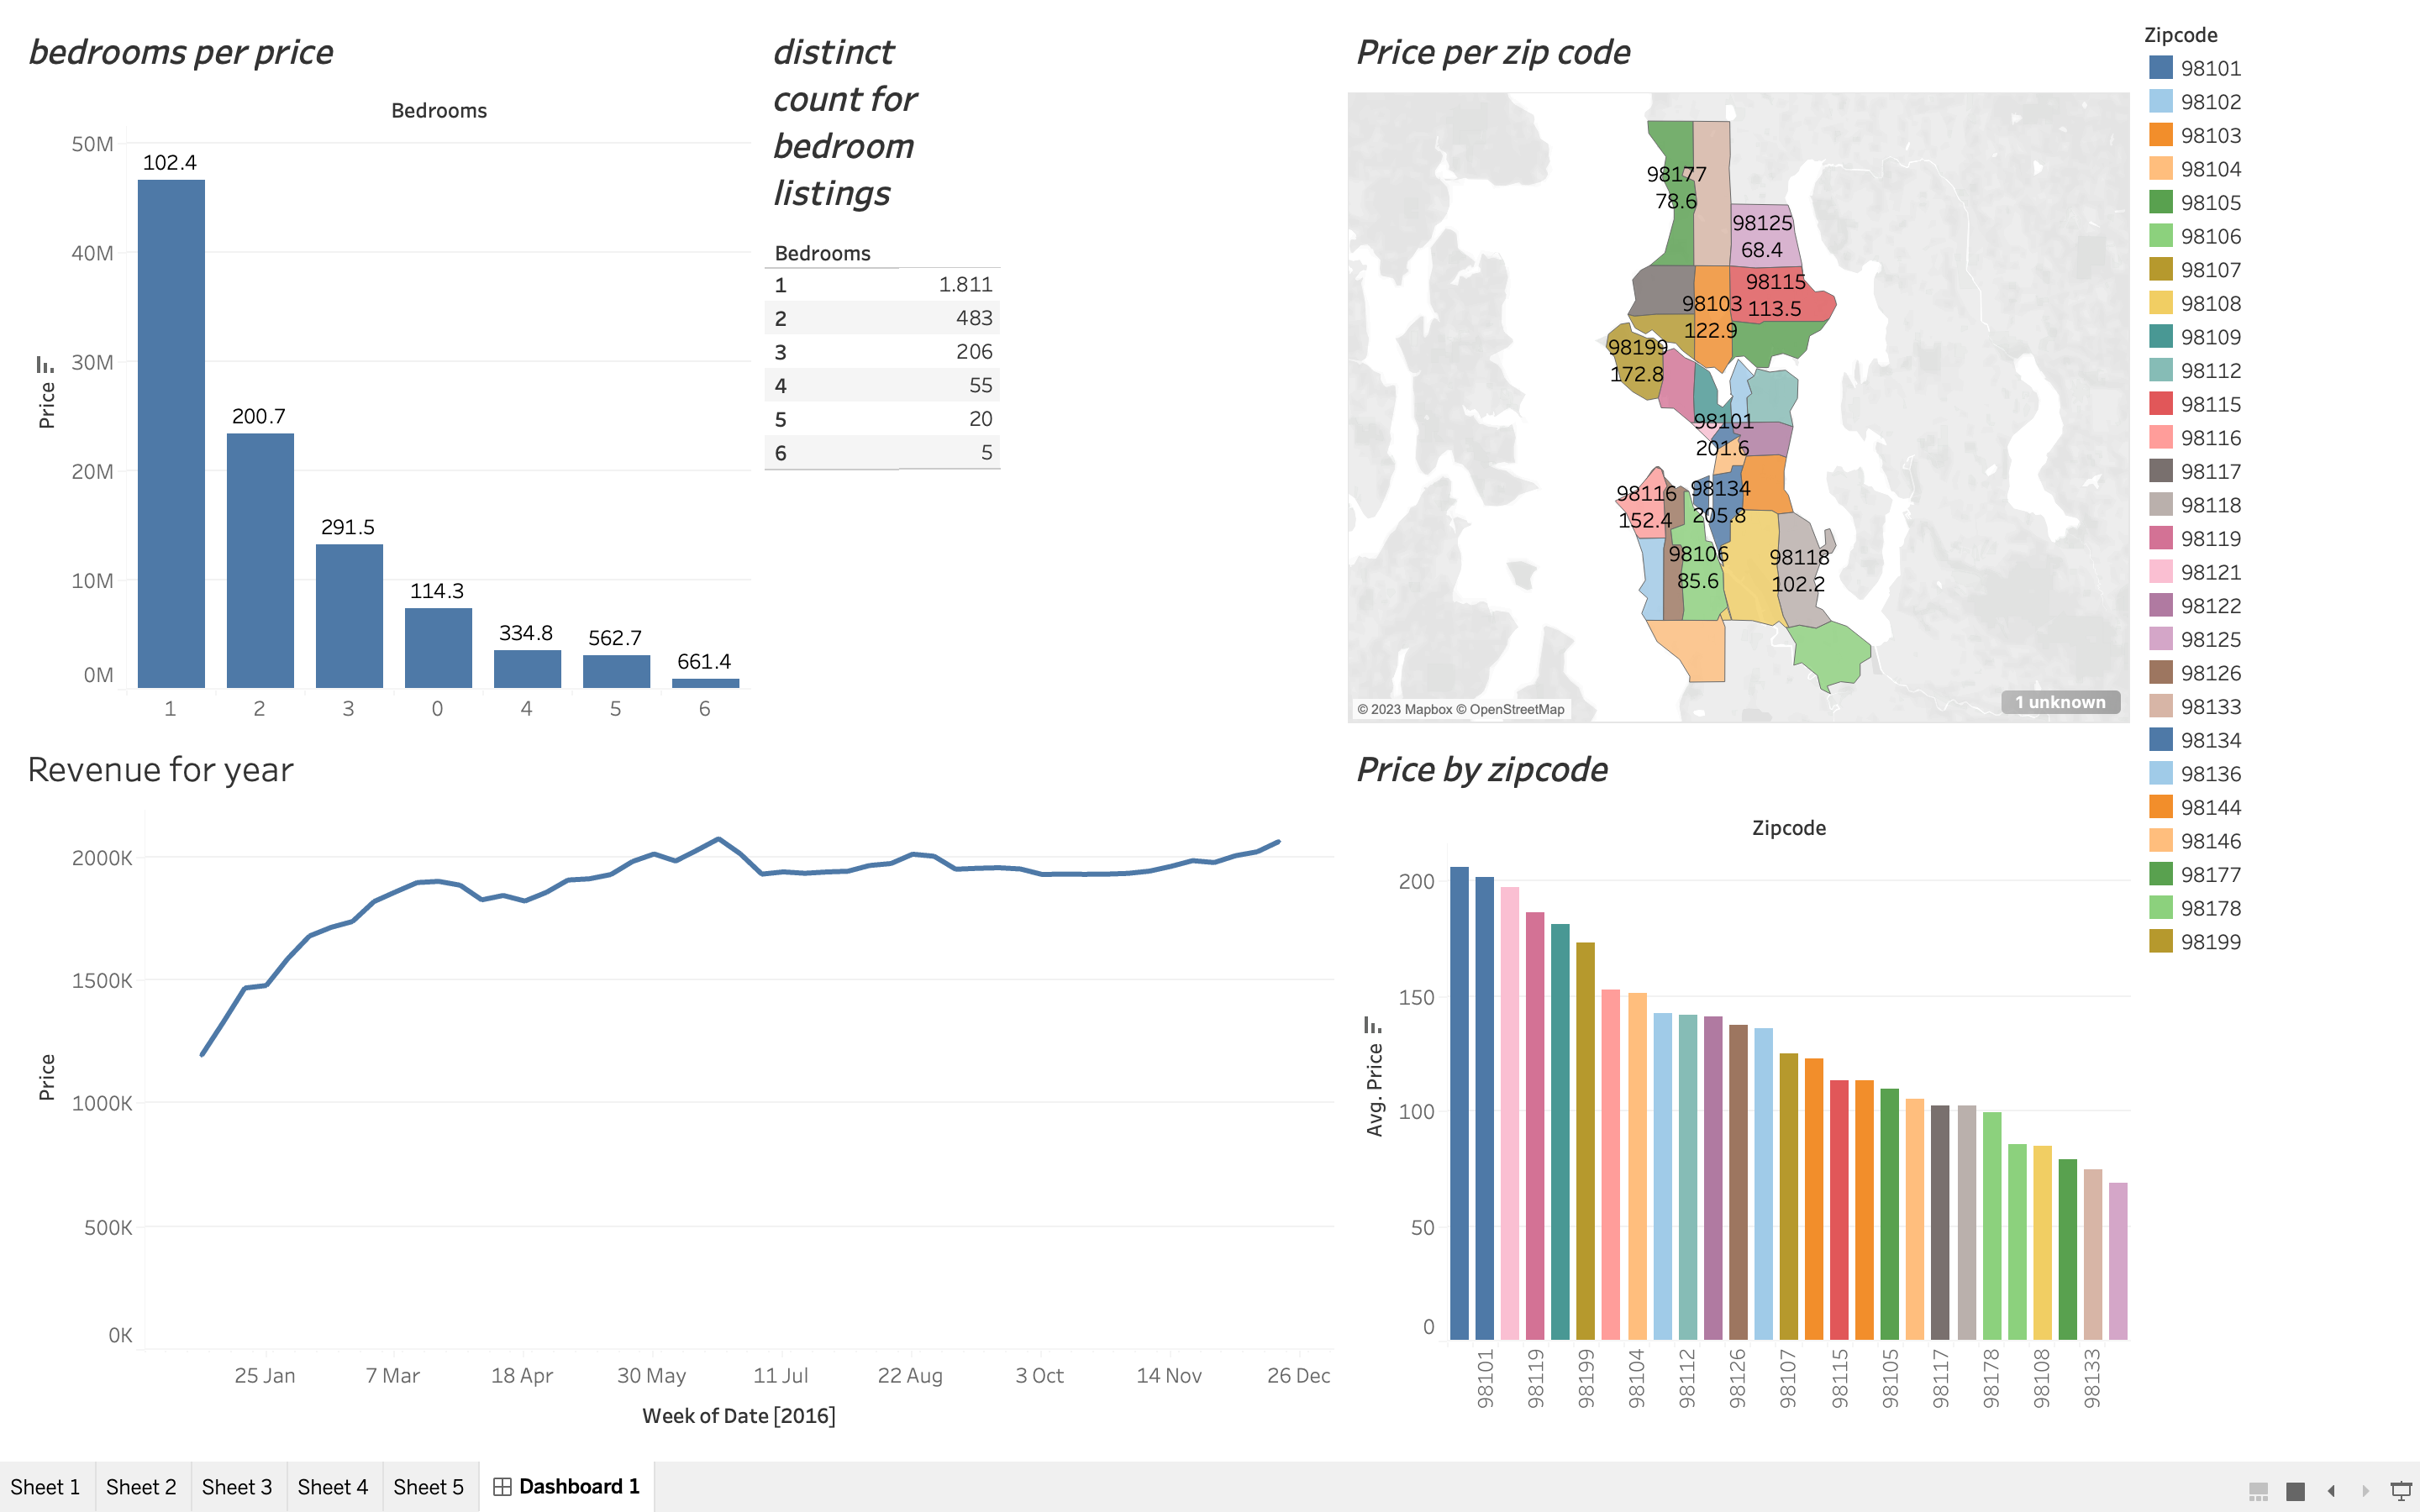

This screenshot's page, from the dashboard's own definition file:
{"tool":"tableau","page":{"name":"Dashboard 1","canvas":[1000,1000],"units":"permille","ordinal":0},"visuals":[{"type":"image","param":"Image/Presentation1.jpg","box":[6.7,11.8,986.6,976.5]},{"type":"image","param":"Image/Big-KING.png","box":[304.5,55.5,38.6,46.7]},{"type":"image","param":"Image/Big-KING.png","box":[618.3,56.9,39.4,49.6]},{"type":"text","box":[341.4,58.4,287.8,46.7]},{"type":"image","param":"Image/profit-growth.png","box":[281,148.9,38.6,45.3]},{"type":"image","param":"Image/2248720.png","box":[463.9,153.3,27.7,45.3]},{"type":"image","param":"Image/delivery-man.png","box":[630,157.7,27.7,42.3]},{"type":"image","param":"Image/order-delivery.png","box":[806.2,159.1,29.4,45.3]},{"type":"worksheet","title":"Sheet 1","mark":"Automatic","box":[255.9,200,143.5,127]},{"type":"worksheet","title":"Sheet 4","mark":"Automatic","box":[789.4,203.5,130,124.1]},{"type":"worksheet","title":"Sheet 2","mark":"Automatic","box":[441,204.9,145.7,124.1]},{"type":"worksheet","title":"Sheet 3","mark":"Automatic","box":[608.2,206.3,105.7,124.1]},{"type":"legend","title":"Sheet 7","param":"[federated.0biavtb1x3sd1t1955vu71ttgwik].[none:item_name:nk]","box":[879.2,338.7,100.7,156.2]},{"type":"worksheet","title":"Sheet 6","mark":"Automatic","rows":["total_revenue€","total_revenue€"],"cols":["item_name"],"box":[237.4,343.1,355.7,324.1]},{"type":"legend","title":"Sheet 6","param":"[federated.19e4rfg1y8g0gx1go0oug1og9nst].[none:item_name:nk]","box":[461.4,343.1,130.9,151.8]},{"type":"worksheet","title":"Sheet 7","mark":"Bar","rows":["total_revenue€","total_revenue€"],"cols":["item_name"],"box":[603.2,343.1,281,322.6]},{"type":"worksheet","title":"Sheet 5","mark":"Area","rows":["total_orders","total_orders"],"cols":["Order Hours (bin)"],"box":[237.4,681.8,222.3,280.3]}]}

Visuals, with their boxes on the dashboard's canvas, which has no fixed pixel size, in thousandths of its width and height (x1, y1, x2, y2). These are canvas units, not pixel positions in the 2420x1512 screenshot, which may show the page scaled, cropped or inside an application window:
image: [7,12,993,988]
image: [304,56,343,102]
image: [618,57,658,106]
text: [341,58,629,105]
image: [281,149,320,194]
image: [464,153,492,199]
image: [630,158,658,200]
image: [806,159,836,204]
"Sheet 1" worksheet: [256,200,399,327]
"Sheet 4" worksheet: [789,204,919,328]
"Sheet 2" worksheet: [441,205,587,329]
"Sheet 3" worksheet: [608,206,714,330]
"Sheet 7" legend: [879,339,980,495]
"Sheet 6" worksheet: [237,343,593,667]
"Sheet 6" legend: [461,343,592,495]
"Sheet 7" worksheet (Bar marks): [603,343,884,666]
"Sheet 5" worksheet (Area marks): [237,682,460,962]
